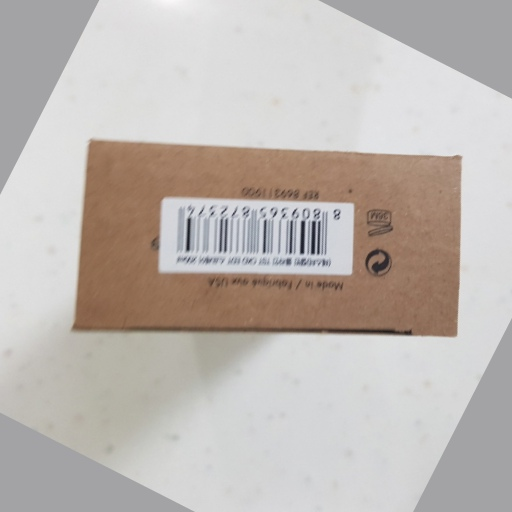Paper_0: (73, 133, 471, 344)
